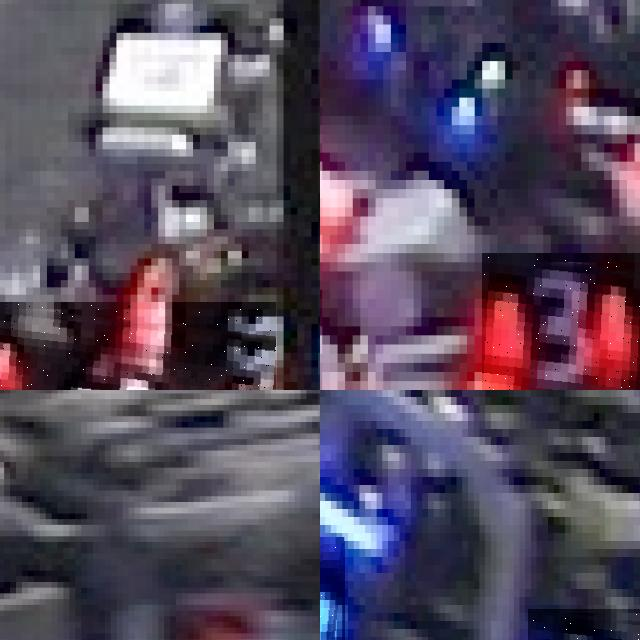B2: (527, 609, 640, 640), (320, 537, 345, 640)
R3: (482, 253, 640, 390)
R5: (0, 302, 276, 390)
